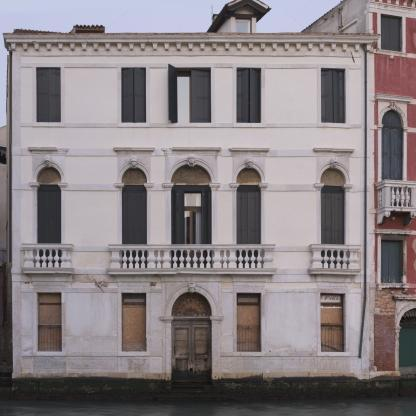Building Outline: (2, 0, 381, 397)
Cornice: (161, 147, 222, 151), (113, 147, 155, 152), (27, 147, 70, 151), (228, 148, 271, 152), (312, 148, 355, 152)
Deco: (187, 154, 196, 167), (130, 155, 138, 168), (246, 157, 254, 169), (188, 282, 196, 294), (45, 155, 52, 167), (331, 157, 338, 168)
Door: (171, 317, 212, 383), (172, 207, 212, 269), (321, 186, 346, 270), (37, 186, 62, 270), (236, 186, 261, 270), (122, 186, 147, 270)
Facade: (2, 0, 381, 401)
Floor: (12, 146, 369, 274), (12, 43, 369, 147)
Floor Slab: (12, 43, 369, 47), (12, 270, 369, 274), (12, 143, 369, 147)
Ground Floor: (12, 274, 369, 397)
Molding: (10, 42, 376, 52)
Sill: (106, 267, 278, 274), (20, 267, 75, 274), (307, 268, 362, 275)
Top Floor: (232, 11, 257, 47)
Window: (172, 68, 212, 123), (37, 292, 62, 352), (122, 292, 147, 352), (237, 292, 262, 352), (321, 293, 346, 352), (36, 67, 61, 123), (121, 67, 146, 123), (321, 67, 345, 123), (237, 67, 261, 123), (172, 291, 212, 316), (172, 185, 212, 207), (171, 164, 212, 183), (321, 167, 346, 183), (36, 166, 61, 182), (122, 167, 147, 183), (236, 167, 261, 183)
